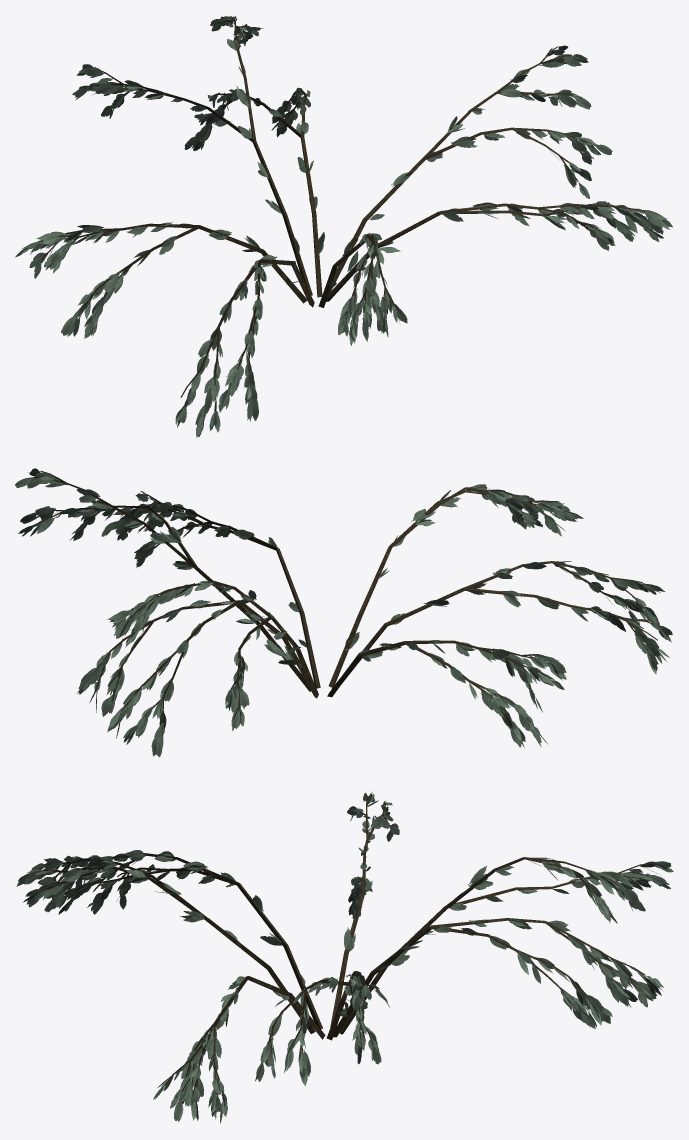
The model's file is willow_shrub_v01_LOD1.fbx.
The picture shows the model from 3 angles, top to bottom: view 1: azimuth 30°, elevation 25°; view 2: azimuth 150°, elevation 25°; view 3: azimuth 270°, elevation 25°; orthographic projection. The views are drawn at different scales.
Parts seen in each view (by area): view 1: willow_shrub_v01_LOD1; view 2: willow_shrub_v01_LOD1; view 3: willow_shrub_v01_LOD1.
Boxes of the visible parts, box(x1,y1,x2,y2) form: willow_shrub_v01_LOD1: box(15, 16, 672, 437); willow_shrub_v01_LOD1: box(15, 468, 672, 756); willow_shrub_v01_LOD1: box(16, 792, 673, 1123).
Bounding box in the file's own units: 675 × 210 × 659.
2 materials, 2 textured.
